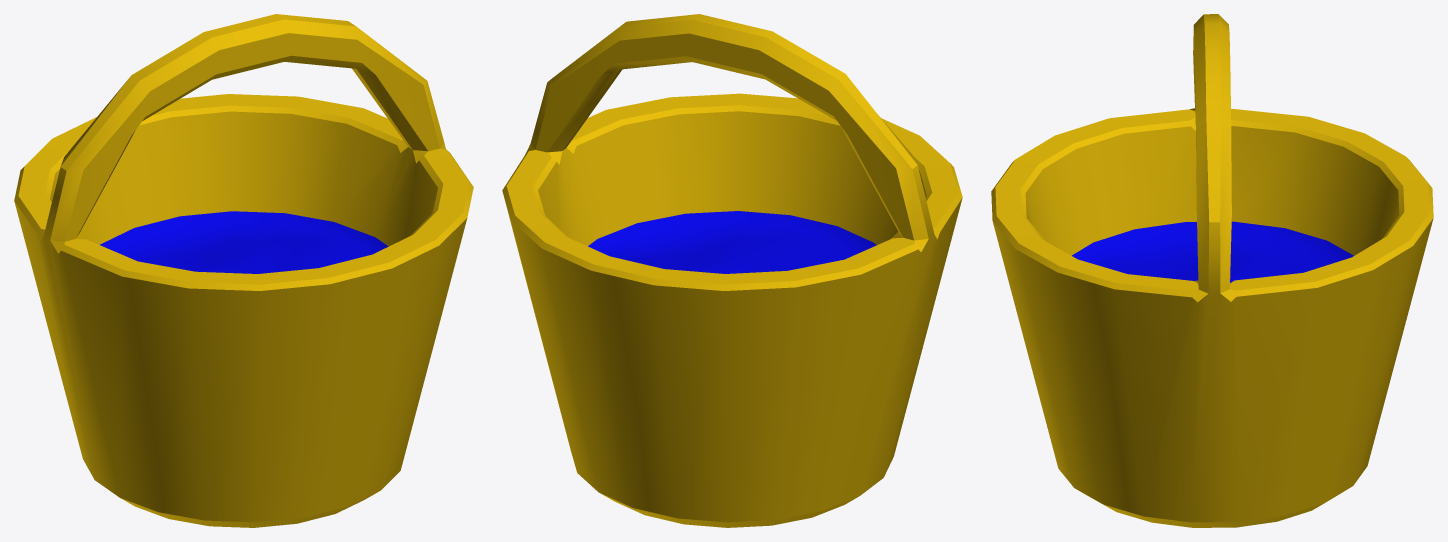
Rendered from bugget_blue.fbx.
3 renders of one model, left to right at view 1: azimuth 30°, elevation 25°; view 2: azimuth 150°, elevation 25°; view 3: azimuth 270°, elevation 25°, orthographic. The views are drawn at different scales.
Visible parts, largest first — view 1: pCylinder2; view 2: pCylinder2; view 3: pCylinder2.
Boxes of the visible parts, x1,y1,x2,y2 form: pCylinder2: (14, 14, 473, 527); pCylinder2: (502, 14, 962, 527); pCylinder2: (991, 14, 1433, 527).
Bounding box in the file's own units: 102 × 109 × 102.
